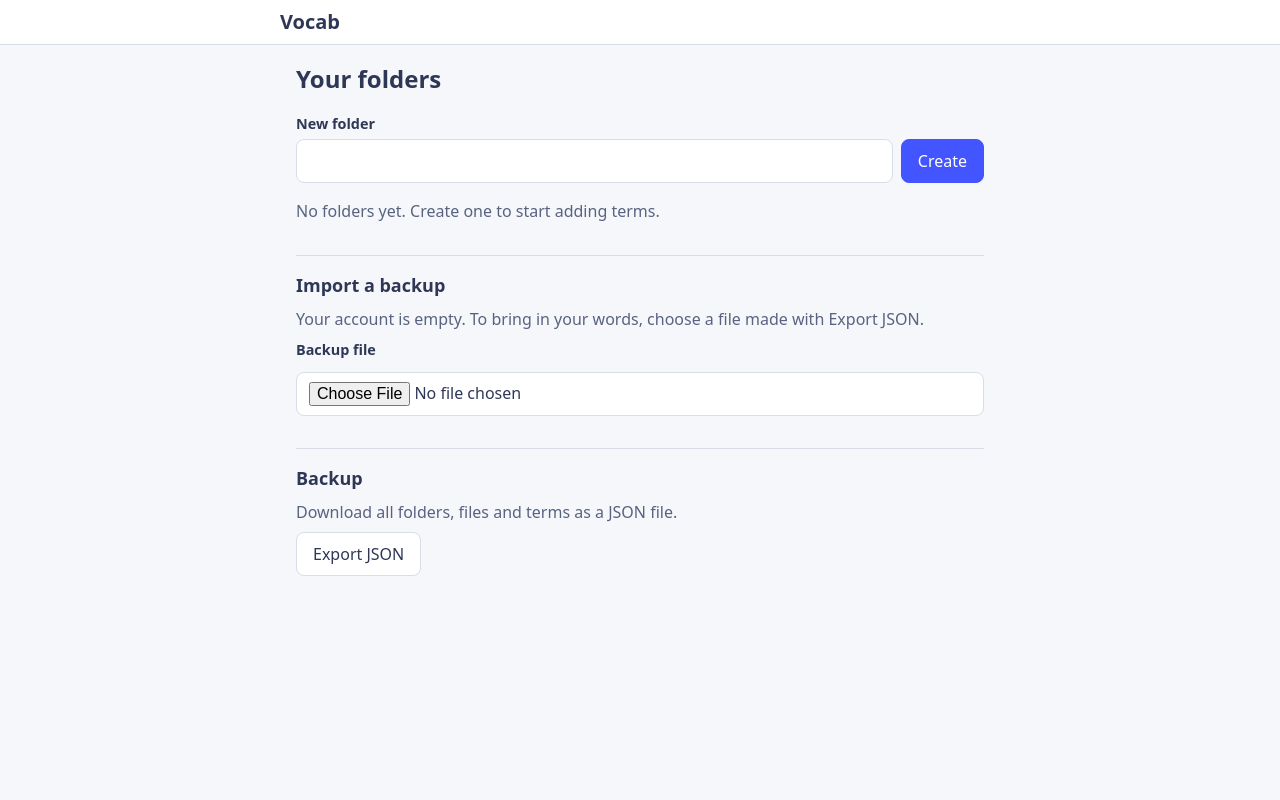
it: folders › shows a duplicate name error next to the field
The width and height of the screenshot is (1280, 800).
Expected: the text "No folders yet. Create one to start adding terms." is shown, [296,200,660,222]
Step 1. Type " ielts " into the field labelled "New folder" → (594, 161), box [296,139,893,183]
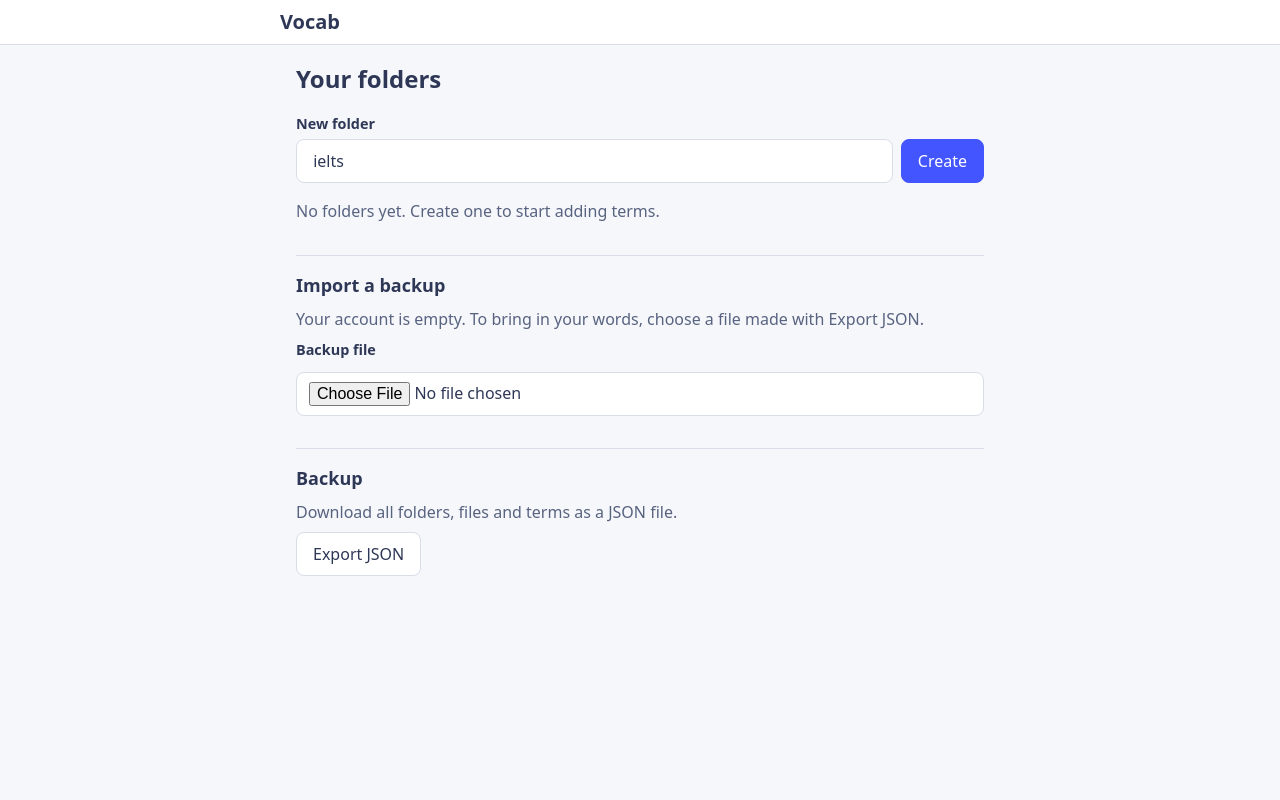
Step 2. Click the button "Create" → (942, 161), box [901,139,984,183]
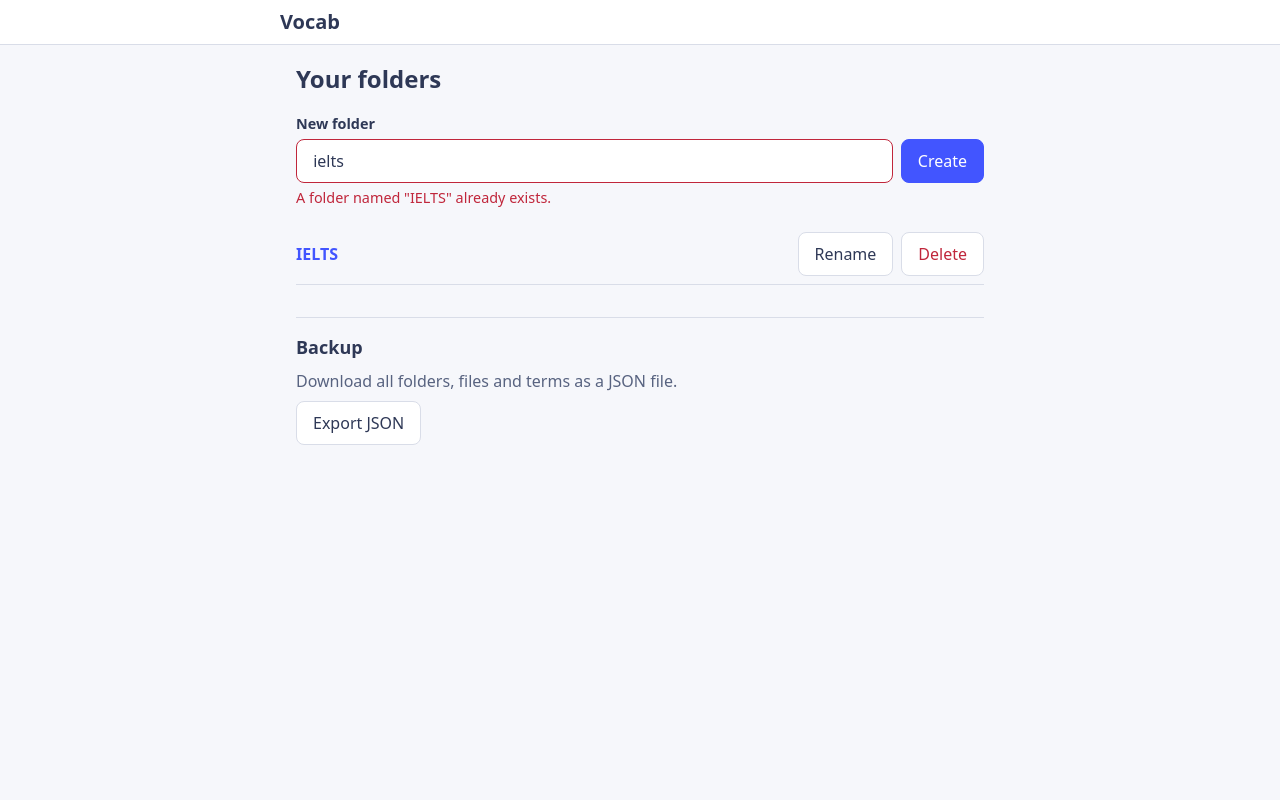
Now the message reads "A folder named \"IELTS\" already exists.", box [296,188,551,207]
